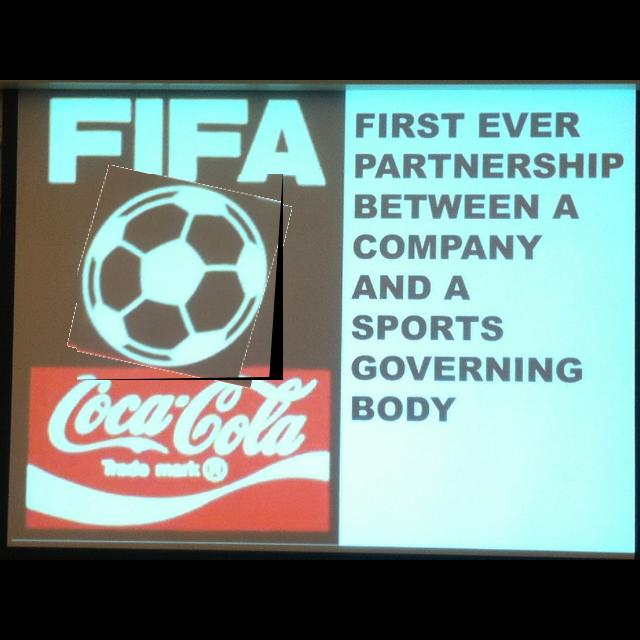Football: (77, 174, 283, 380)
